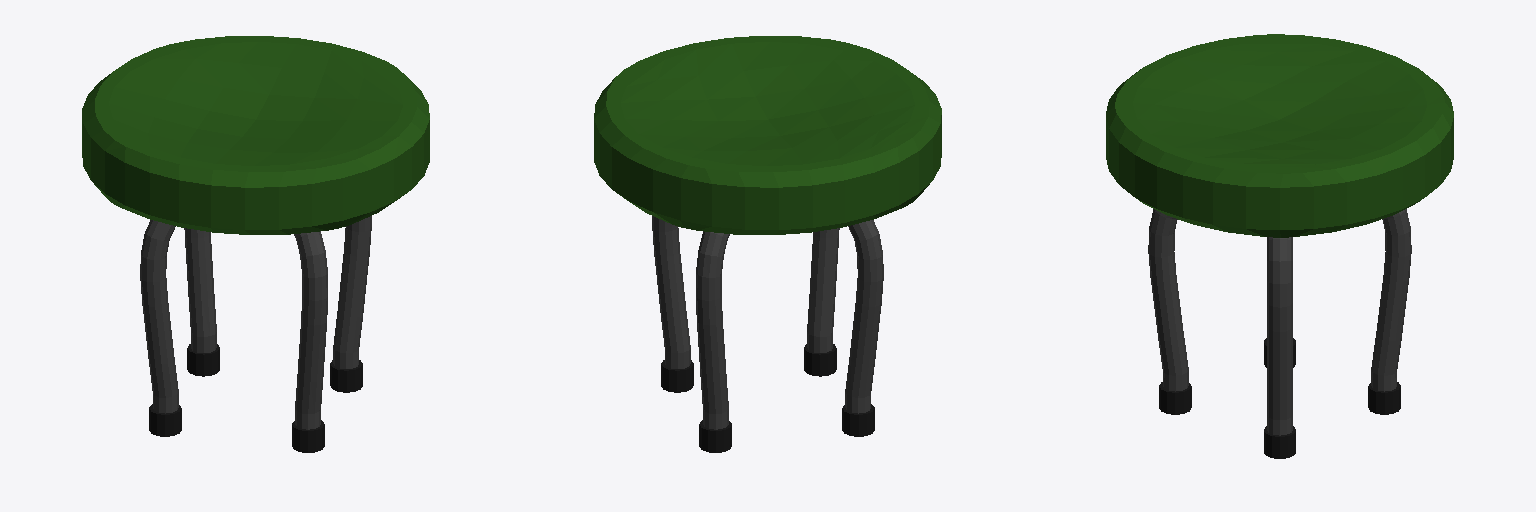
The model's file is stolek.obj.
The picture shows the model from 3 angles: view 1: azimuth 30°, elevation 25°; view 2: azimuth 150°, elevation 25°; view 3: azimuth 270°, elevation 25°; orthographic projection.
Visible parts, largest first — view 1: Cylinder, BézierCurve.002, BézierCurve.001, BézierCurve.004, BézierCurve.003; view 2: Cylinder, BézierCurve.002, BézierCurve.001, BézierCurve.004, BézierCurve.003; view 3: Cylinder, BézierCurve.001, BézierCurve.002, BézierCurve.003, BézierCurve.004.
Boxes of the visible parts, x1,y1,x2,y2 form: Cylinder: [82, 36, 429, 234]; BézierCurve.002: [140, 216, 371, 413]; BézierCurve.001: [184, 228, 327, 429]; BézierCurve.004: [149, 360, 362, 436]; BézierCurve.003: [187, 344, 324, 452]; Cylinder: [594, 36, 941, 234]; BézierCurve.002: [652, 216, 883, 413]; BézierCurve.001: [696, 228, 839, 429]; BézierCurve.004: [661, 360, 874, 436]; BézierCurve.003: [699, 344, 836, 452]; Cylinder: [1106, 34, 1453, 237]; BézierCurve.001: [1148, 209, 1411, 391]; BézierCurve.002: [1267, 237, 1292, 435]; BézierCurve.003: [1159, 382, 1400, 414]; BézierCurve.004: [1264, 338, 1295, 458].
Bounding box in the file's own units: 0.6 × 0.5775 × 0.6.